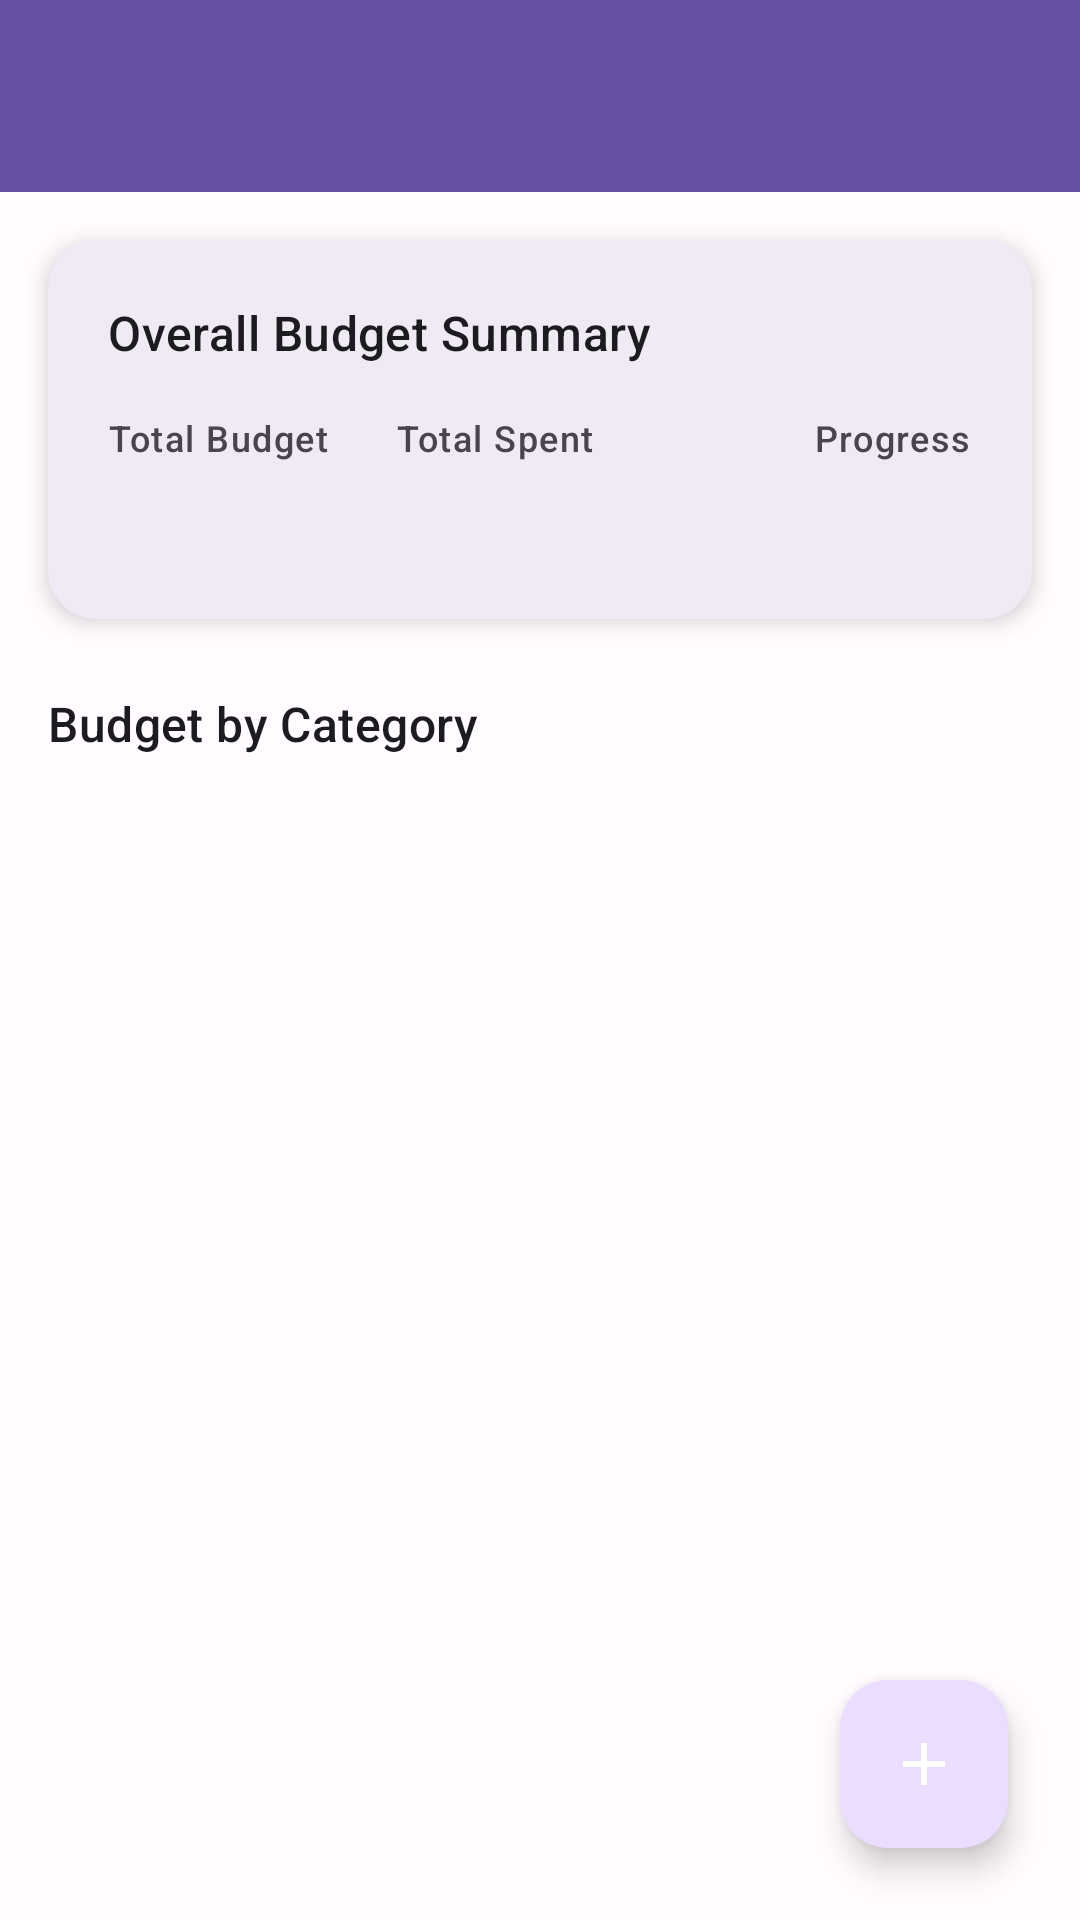

Icons on this 1080px x 1920px Android screen, each with the point to tap as [x,y]:
Add Budget: [924,1764]
